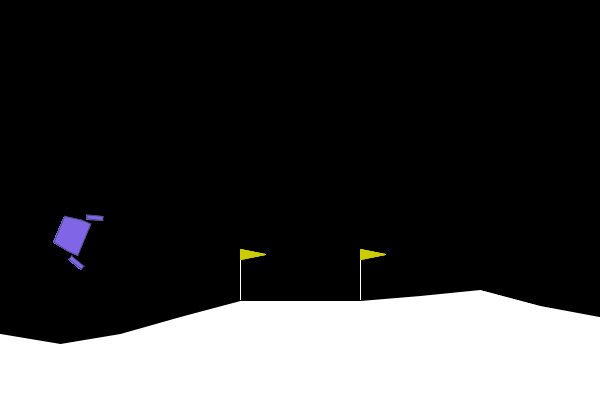lander: (45, 201, 105, 272)
